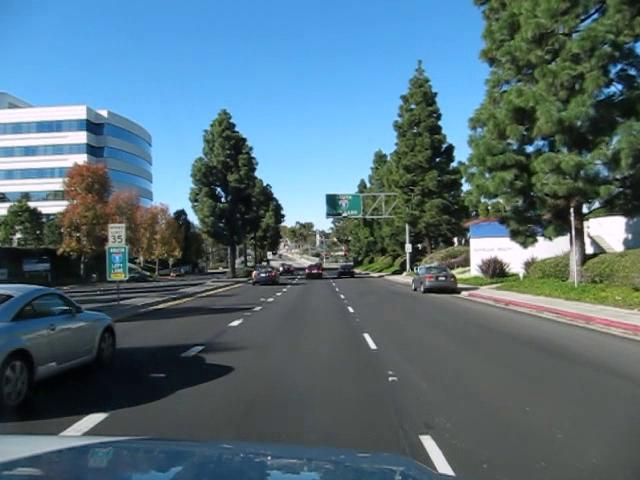speedLimit35: (107, 222, 126, 246)
